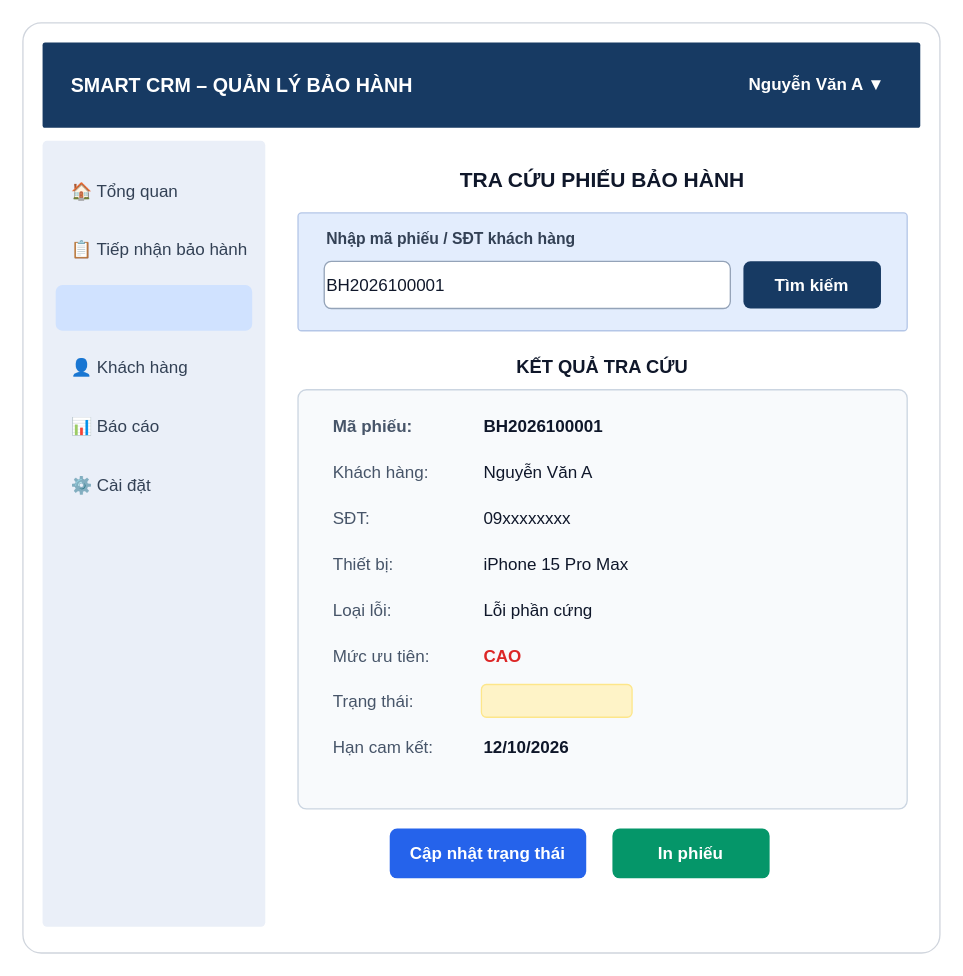
Image size: 963x976. Some labels were removed from this diagram. Each missing label, with the box of its shape:
ĐANG XỬ LÝ: (480, 683, 632, 717)
🔎 Tra cứu phiếu: (55, 284, 252, 330)
